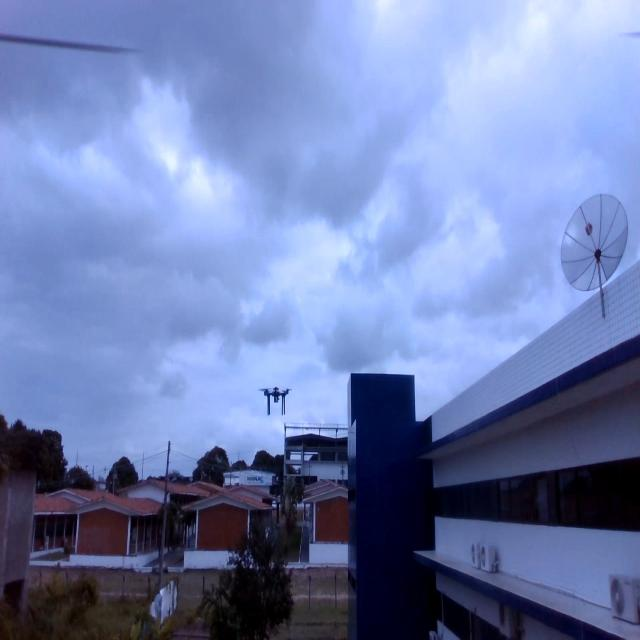-uav-: (255, 375, 294, 421)
